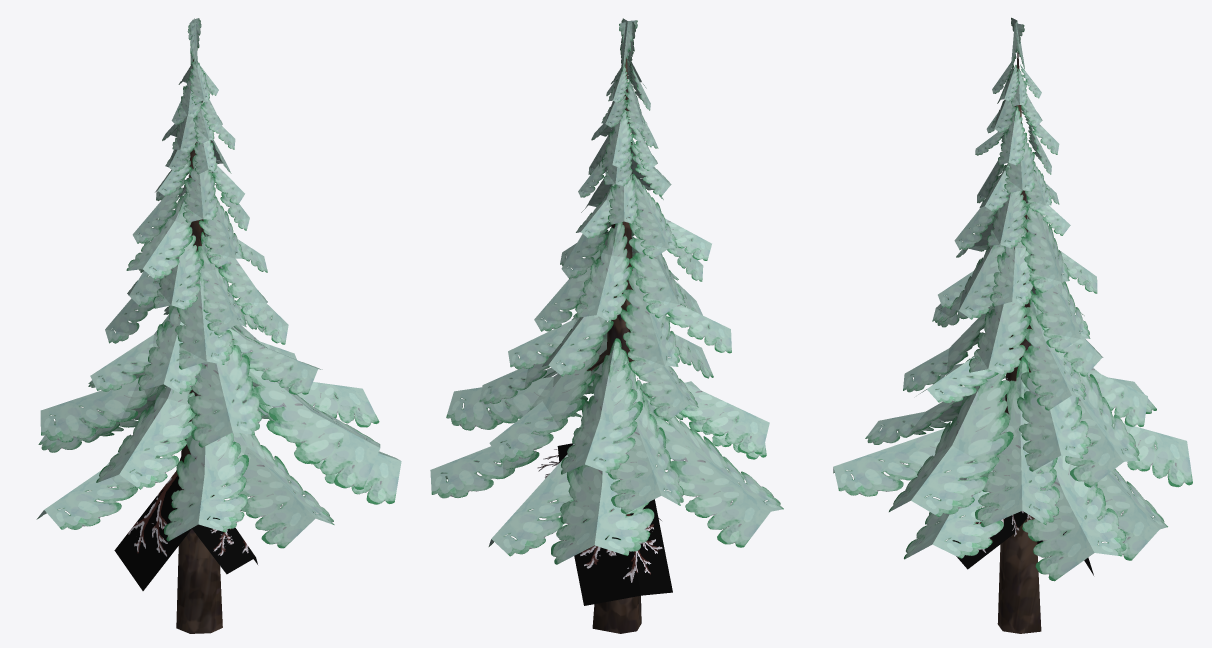
The model's file is pine_tree_l_1_lod_1.fbx.
3 renders of one model, left to right at view 1: azimuth 30°, elevation 25°; view 2: azimuth 150°, elevation 25°; view 3: azimuth 270°, elevation 25°, orthographic.
Parts seen in each view (by area): view 1: pine__tree_l_1; view 2: pine__tree_l_1; view 3: pine__tree_l_1.
Boxes of the visible parts, bbox=[...] form: pine__tree_l_1: bbox=[36, 18, 401, 633]; pine__tree_l_1: bbox=[430, 18, 783, 633]; pine__tree_l_1: bbox=[833, 17, 1192, 633].
Size of the model in its own units: 290 by 505 by 277.
